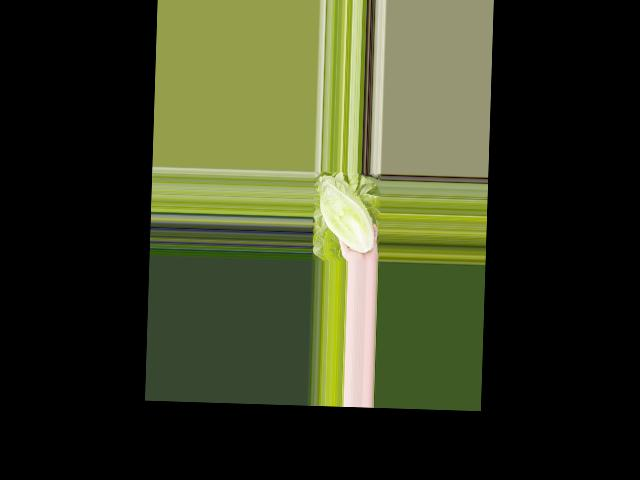lettuce: (316, 175, 378, 254)
